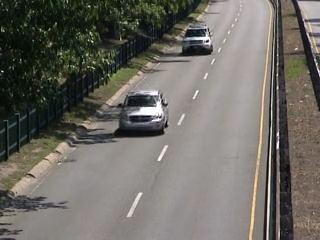car: (112, 87, 171, 135), (180, 23, 217, 58)
